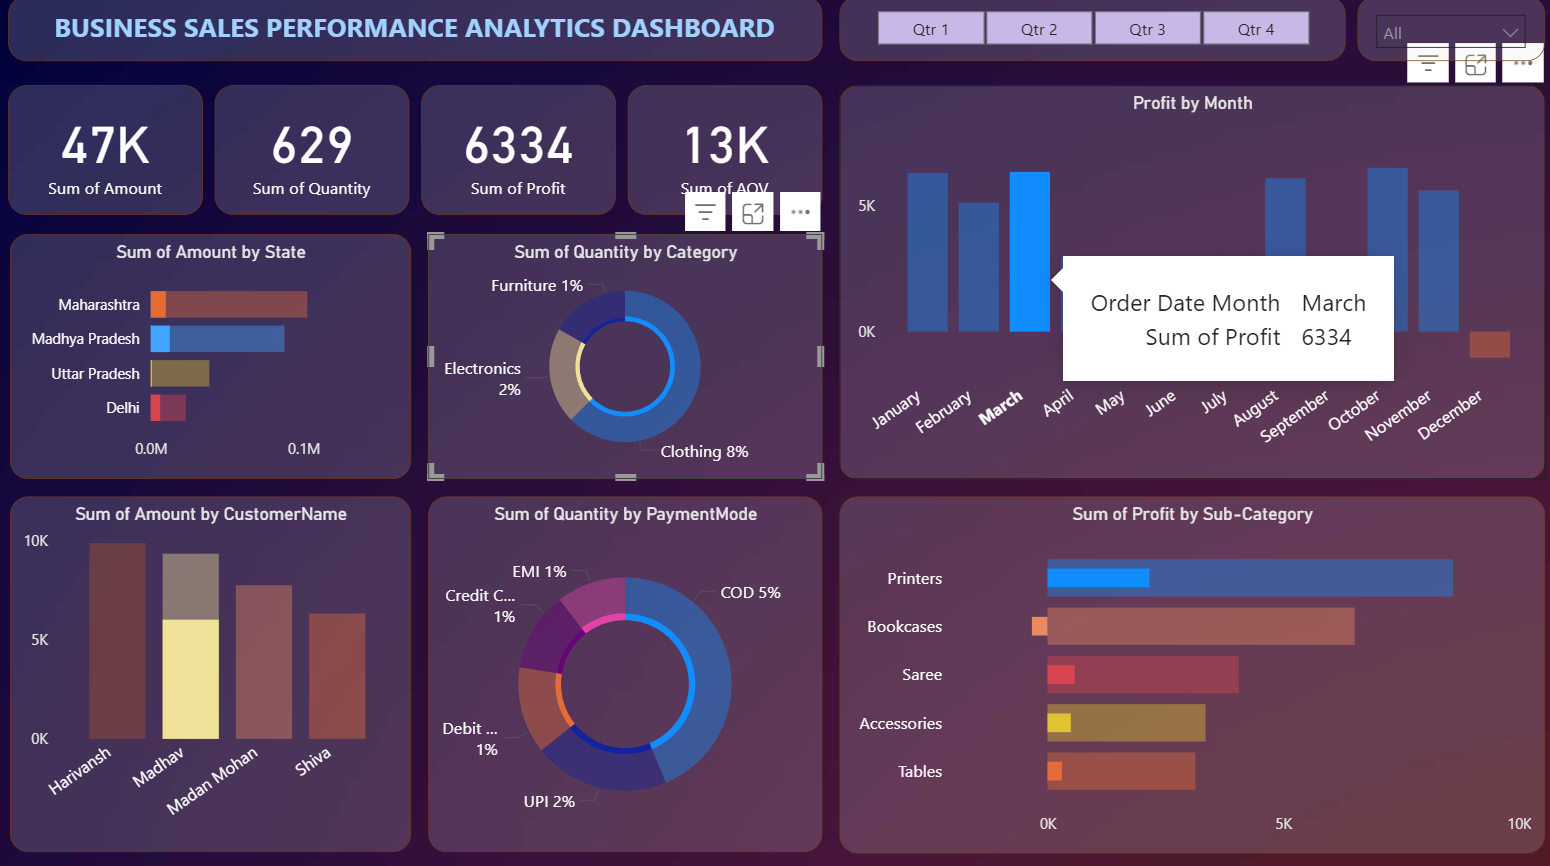

The dashboard page shown, as its layout file describes it:
{"tool":"powerbi","page":{"name":"Page 1","canvas":[1280,720],"ordinal":0},"visuals":[{"type":"textbox","box":[10,0,664.3,52.9],"z":0},{"type":"columnChart","title":"Profit by Month","fields":{"Y":["Sum(Details.Profit)"],"Category":["Orders.Order Date.Variation.Date Hierarchy.Month"]},"box":[688.6,72.9,575.7,321.4],"z":1000},{"type":"barChart","fields":{"Category":["Details.Sub-Category"],"Y":["Sum(Details.Profit)"]},"box":[688.6,408.6,575.7,291.4],"z":2000},{"type":"donutChart","fields":{"Category":["Details.Category"],"Y":["Sum(Details.Quantity)"]},"box":[352.9,194.3,321.4,200],"z":3000},{"type":"donutChart","fields":{"Y":["Sum(Details.Quantity)"],"Category":["Details.PaymentMode"]},"box":[352.9,408.6,321.4,290],"z":4000},{"type":"card","fields":{"Values":["Sum(Details.Amount)"]},"box":[10,72.9,158.6,105.7],"z":5000},{"type":"card","fields":{"Values":["Sum(Details.Quantity)"]},"box":[178.6,72.9,158.6,105.7],"z":6000},{"type":"card","fields":{"Values":["Sum(Details.Profit)"]},"box":[347.1,72.9,158.6,105.7],"z":7000},{"type":"card","fields":{"Values":["Sum(Details.AOV)"]},"box":[515.7,72.9,158.6,105.7],"z":8000},{"type":"barChart","fields":{"Category":["Orders.State"],"Y":["Sum(Details.Amount)"]},"box":[11.4,194.3,327.1,200],"z":9000},{"type":"columnChart","fields":{"Category":["Orders.CustomerName"],"Y":["Sum(Details.Amount)"]},"box":[11.4,408.6,327.1,290],"z":10000},{"type":"slicer","fields":{"Values":["Orders.Order Date.Variation.Date Hierarchy.Quarter"]},"box":[688.6,0,412.9,52.9],"z":11000},{"type":"slicer","fields":{"Values":["Orders.State"]},"box":[1111.4,0,152.9,52.9],"z":12000}]}

Visuals, with their boxes in screenshot pixels (x1, y1, x2, y2), scaled from the page's 1280x720 canvas onto the 1550x866 screenshot:
textbox: rect(12, 0, 817, 64)
"Profit by Month" columnChart: rect(834, 88, 1531, 474)
barChart - Details.Sub-Category x Sum(Details.Profit): rect(834, 491, 1531, 842)
donutChart - Details.Category x Sum(Details.Quantity): rect(427, 234, 817, 474)
donutChart - Sum(Details.Quantity) x Details.PaymentMode: rect(427, 491, 817, 840)
card - Sum(Details.Amount): rect(12, 88, 204, 215)
card - Sum(Details.Quantity): rect(216, 88, 408, 215)
card - Sum(Details.Profit): rect(420, 88, 612, 215)
card - Sum(Details.AOV): rect(624, 88, 817, 215)
barChart - Orders.State x Sum(Details.Amount): rect(14, 234, 410, 474)
columnChart - Orders.CustomerName x Sum(Details.Amount): rect(14, 491, 410, 840)
slicer - Orders.Order Date.Variation.Date Hierarchy.Quarter: rect(834, 0, 1334, 64)
slicer - Orders.State: rect(1346, 0, 1531, 64)
